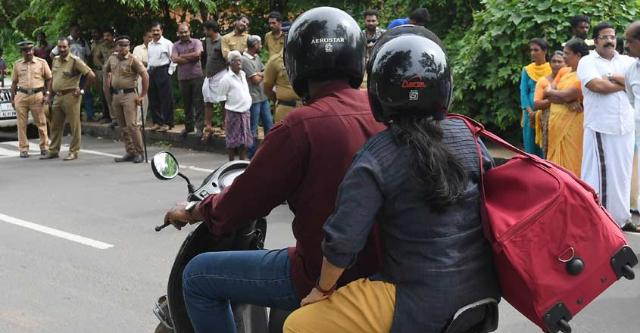helm: (365, 23, 455, 128), (282, 7, 369, 100)
motor: (150, 148, 505, 333)
